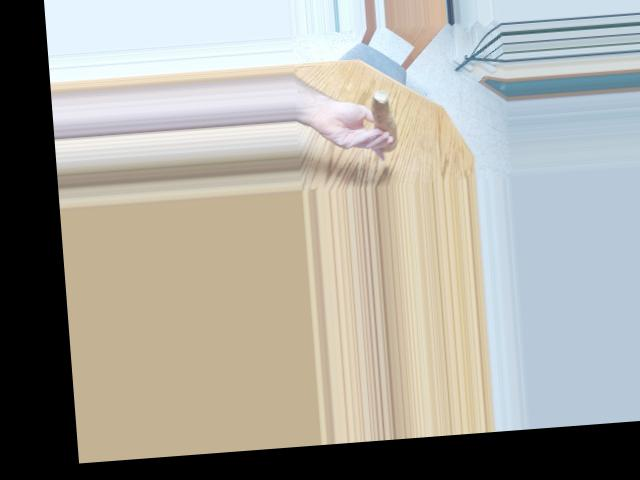sweet_potato: (363, 91, 401, 145)
